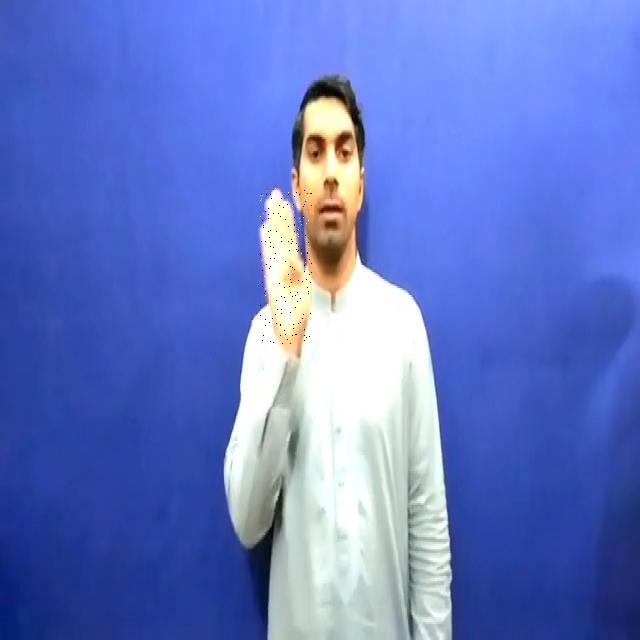napkin: (260, 186, 312, 344)
